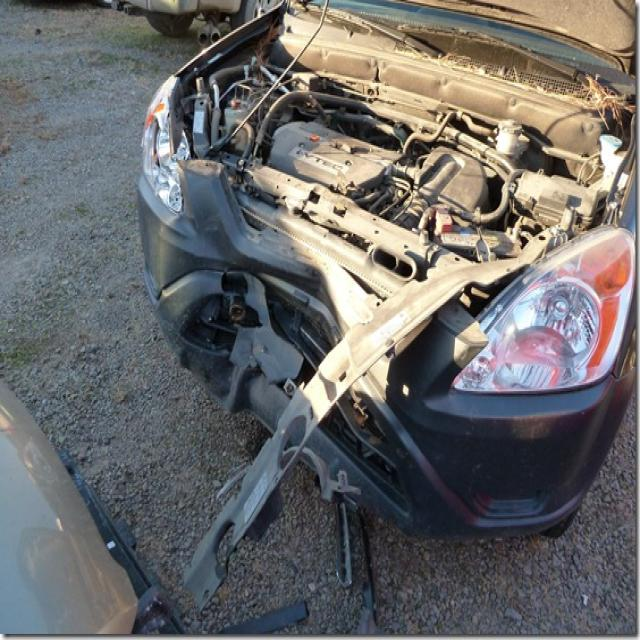crush: (138, 0, 640, 517)
